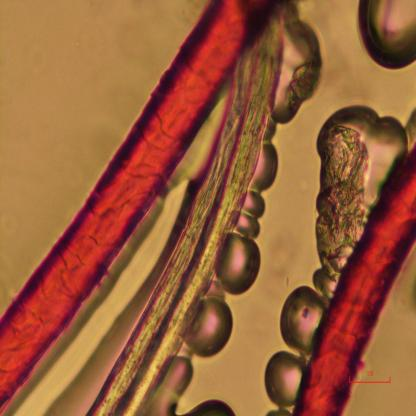Air bubble: (306, 102, 406, 286), (278, 19, 322, 121), (354, 0, 416, 72), (239, 142, 279, 241), (276, 282, 319, 348), (151, 355, 194, 414), (262, 349, 304, 408), (191, 304, 235, 355)
Background material: (219, 231, 262, 295)
Hair textile: (0, 1, 267, 411), (293, 144, 416, 414)
Microfibre: (89, 30, 285, 416)
